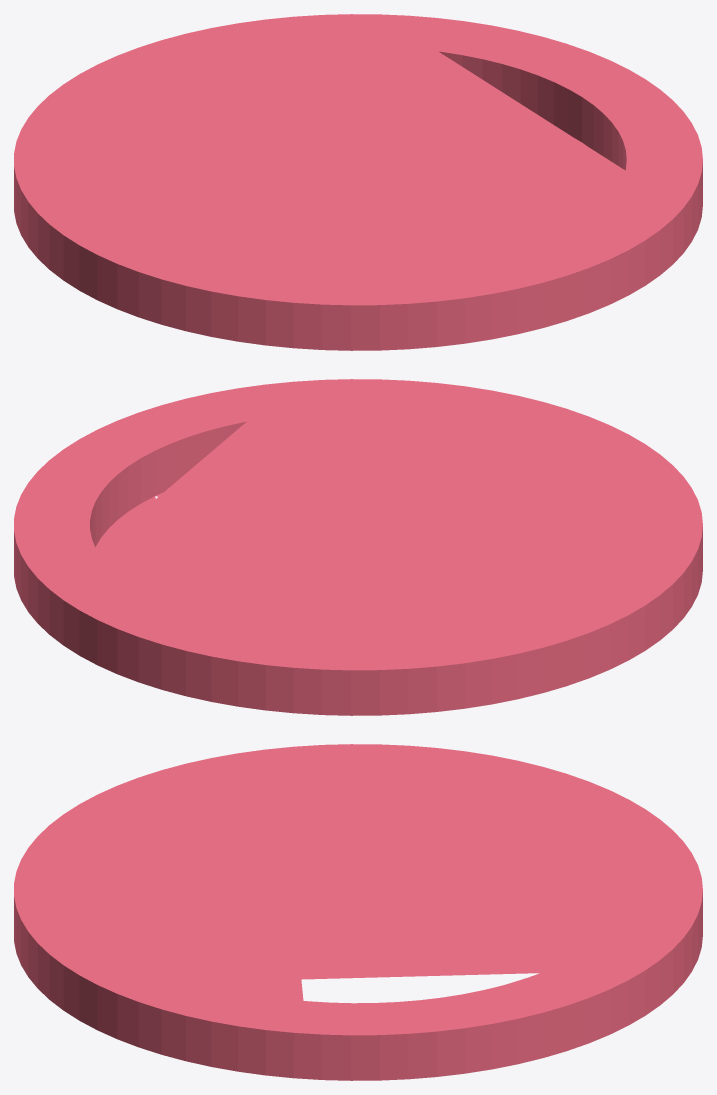
File: RingOfDoom.fbx
The picture shows the model from 3 angles, top to bottom: view 1: azimuth 30°, elevation 25°; view 2: azimuth 150°, elevation 25°; view 3: azimuth 270°, elevation 25°; orthographic projection.
Visible parts, largest first — view 1: SpawningCilinder; view 2: SpawningCilinder; view 3: SpawningCilinder.
Boxes of the visible parts, bbox=[...] form: SpawningCilinder: bbox=[14, 14, 702, 350]; SpawningCilinder: bbox=[14, 379, 702, 715]; SpawningCilinder: bbox=[14, 744, 702, 1080].
Bounding box in the file's own units: 38582 × 2808 × 38573.
